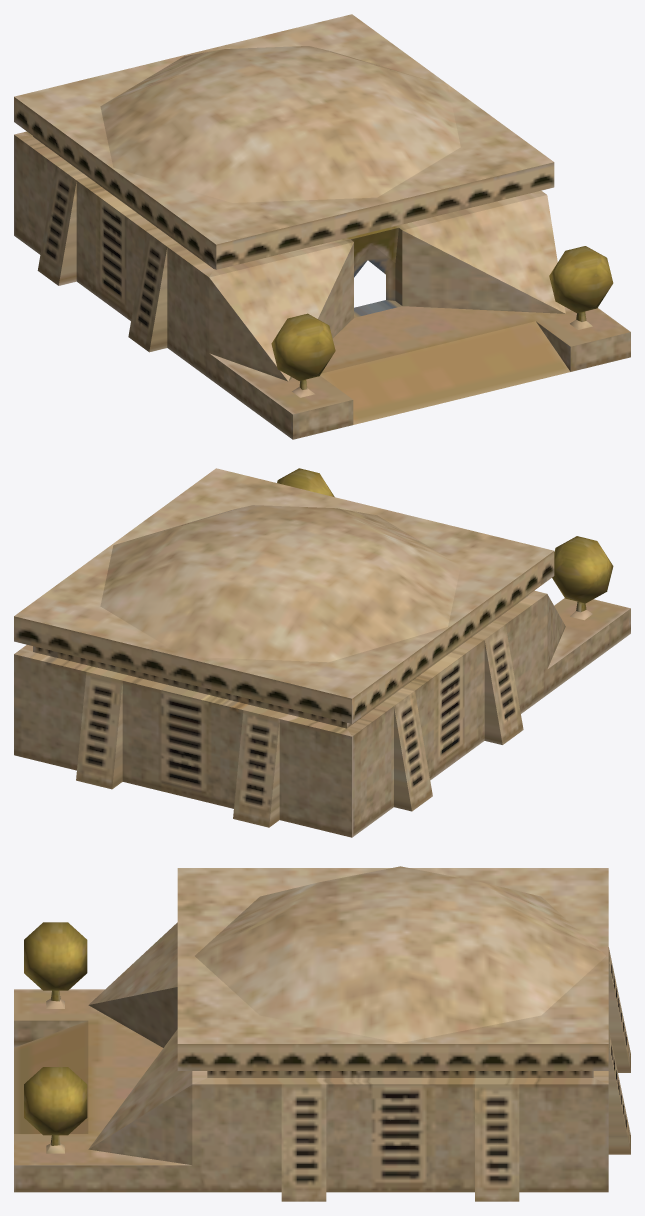
The model's file is mun_tato_guild_commerce_s01_r0_exterior_mesh_l2.fbx.
3 views of the same model, one above another, from view 1: azimuth 30°, elevation 25°; view 2: azimuth 150°, elevation 25°; view 3: azimuth 270°, elevation 25° (orthographic). The views are drawn at different scales.
Visible parts, largest first — view 1: mesh_node; view 2: mesh_node; view 3: mesh_node.
Part boxes in pixels (box(x1,y1,x2,y2)): mesh_node: box(14, 14, 630, 439); mesh_node: box(14, 468, 630, 837); mesh_node: box(14, 866, 630, 1201).
Size of the model in its own units: 38.75 by 18.45 by 51.88.
1 material, 1 textured.
